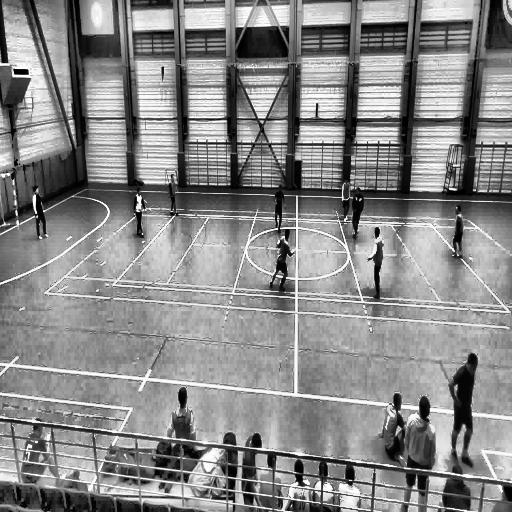player: (399, 397, 436, 510), (449, 353, 478, 468), (19, 418, 66, 486), (378, 393, 408, 468), (436, 462, 470, 512), (166, 387, 196, 442), (282, 458, 312, 512), (242, 430, 262, 506), (270, 228, 293, 293), (259, 452, 282, 512), (335, 463, 362, 512), (366, 227, 384, 299), (313, 460, 335, 512), (32, 185, 50, 240), (450, 202, 464, 260), (351, 189, 364, 239), (133, 186, 146, 236), (273, 181, 285, 231), (340, 176, 350, 222), (168, 174, 178, 216)
